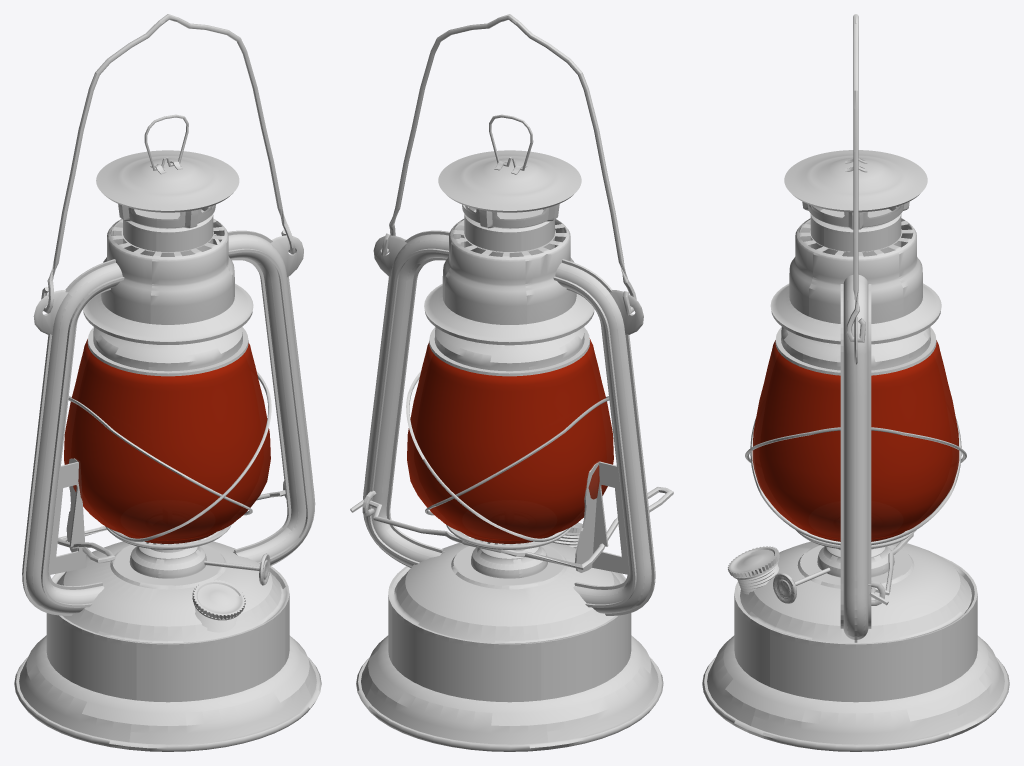
Rendered from киросинка.FBX.
The picture shows the model from 3 angles, left to right: view 1: azimuth 30°, elevation 25°; view 2: azimuth 150°, elevation 25°; view 3: azimuth 270°, elevation 25°; orthographic projection.
Visible parts, largest first — view 1: HENKEL; view 2: HENKEL; view 3: HENKEL.
Part boxes in pixels (x1,y1,x2,y2): HENKEL: [14, 14, 321, 751]; HENKEL: [350, 14, 673, 751]; HENKEL: [702, 14, 1009, 751].
Bounding box in the file's own units: 3682 × 8128 × 3360.
